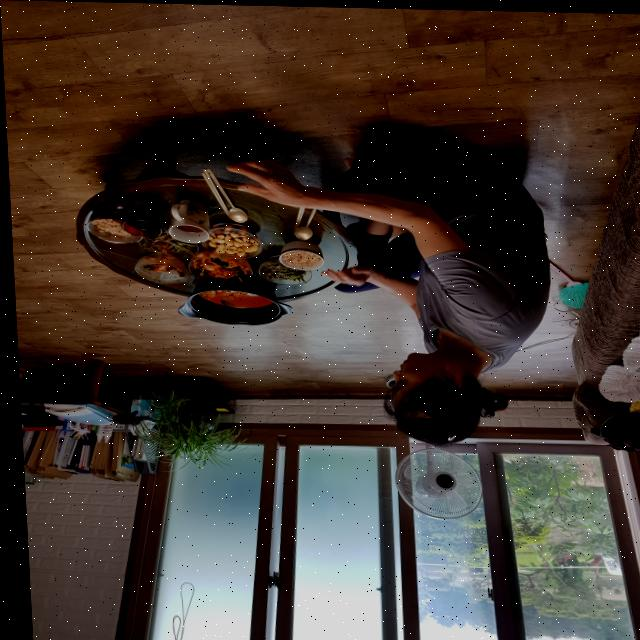eating-person: (220, 150, 560, 456)
